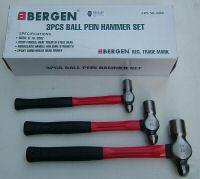hammer: (24, 116, 192, 177), (21, 98, 160, 144), (12, 76, 136, 114)
